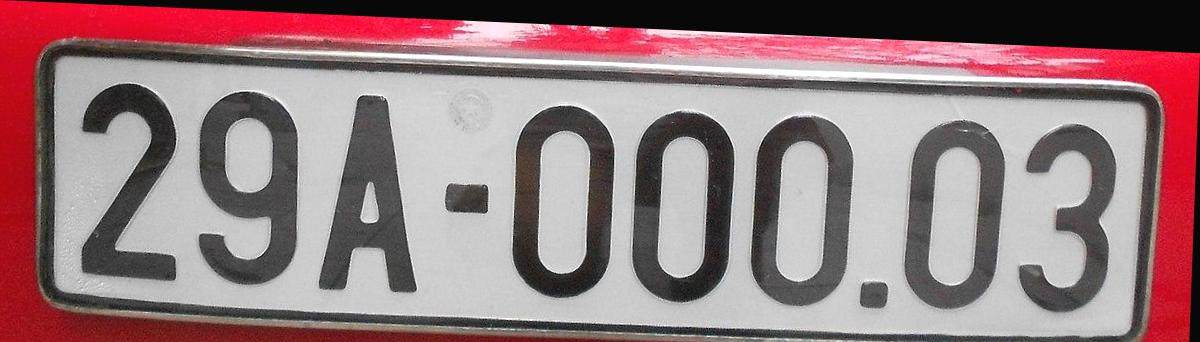License_Plate: (26, 27, 1168, 342)
